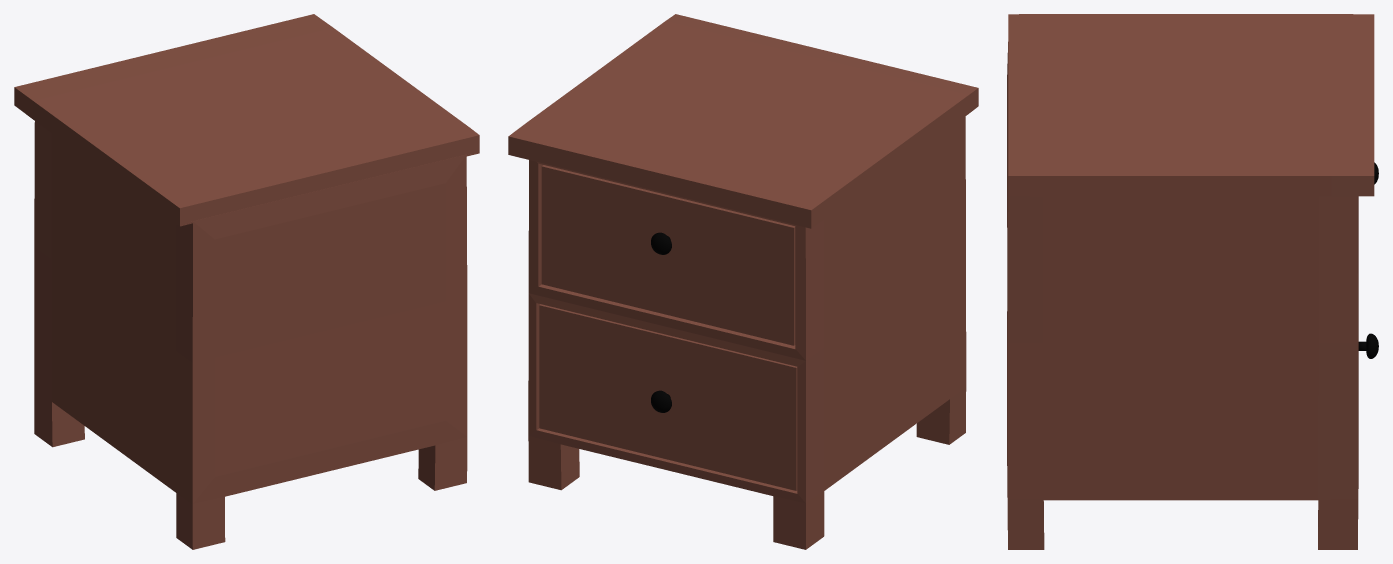
Rendered from mesita_de_noche.fbx.
3 views of the same model, side by side, from view 1: azimuth 30°, elevation 25°; view 2: azimuth 150°, elevation 25°; view 3: azimuth 270°, elevation 25° (orthographic). The views are drawn at different scales.
Visible parts, largest first — view 1: Plane; view 2: Plane; view 3: Plane.
Boxes of the visible parts, left/top/right/bottom form: Plane: left=14, top=14, right=479, bottom=549; Plane: left=508, top=14, right=978, bottom=549; Plane: left=1007, top=14, right=1378, bottom=549.
Bounding box in the file's own units: 141 × 155 × 137.
